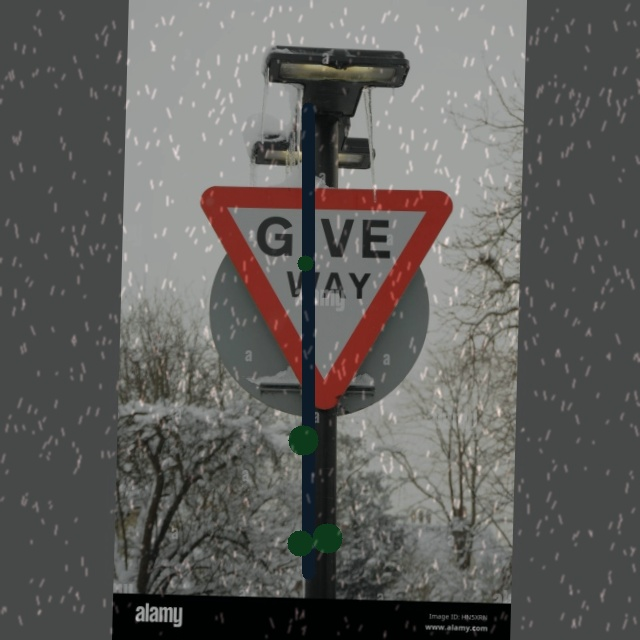Give_Way: (198, 183, 449, 417)
